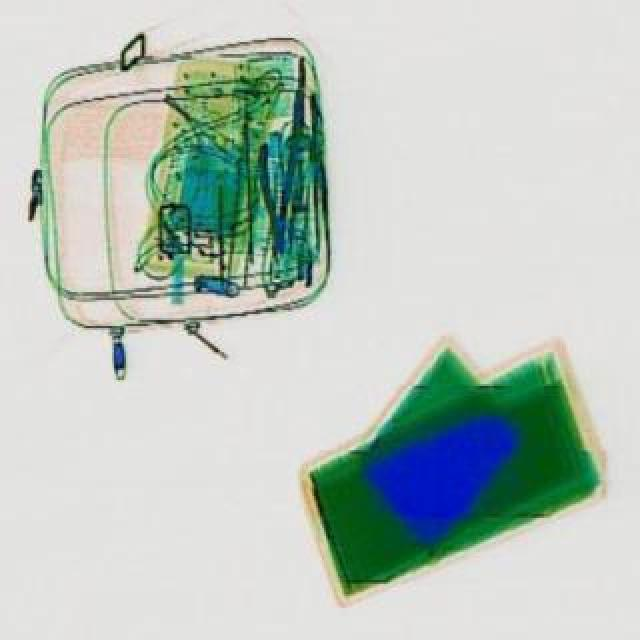wrench: (254, 140, 298, 256)
